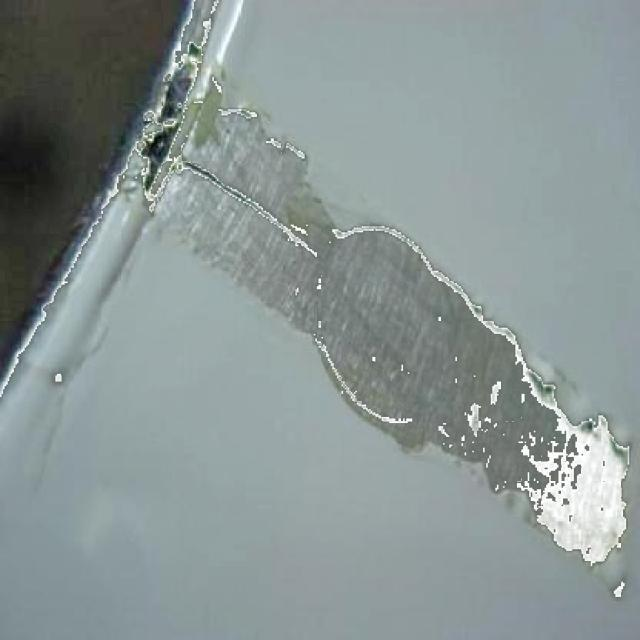crack: (250, 198, 310, 248), (180, 158, 246, 198)
